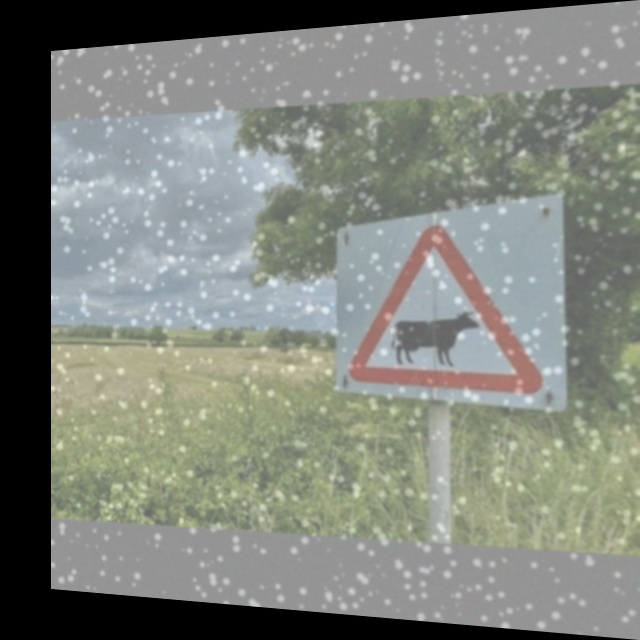Cattle: (342, 220, 549, 405)
